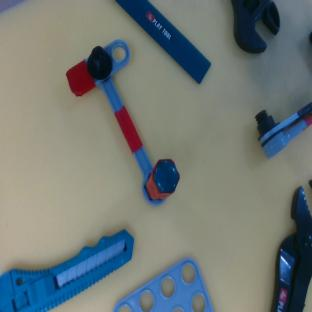pass: (59, 35, 187, 219)
